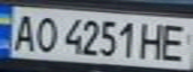1: (115, 18, 139, 58)
2: (78, 16, 103, 56)
4: (60, 15, 84, 55)
5: (96, 18, 121, 58)
A: (6, 11, 39, 52)
E: (157, 20, 193, 62)
H: (136, 19, 169, 61)
O: (30, 14, 60, 54)
